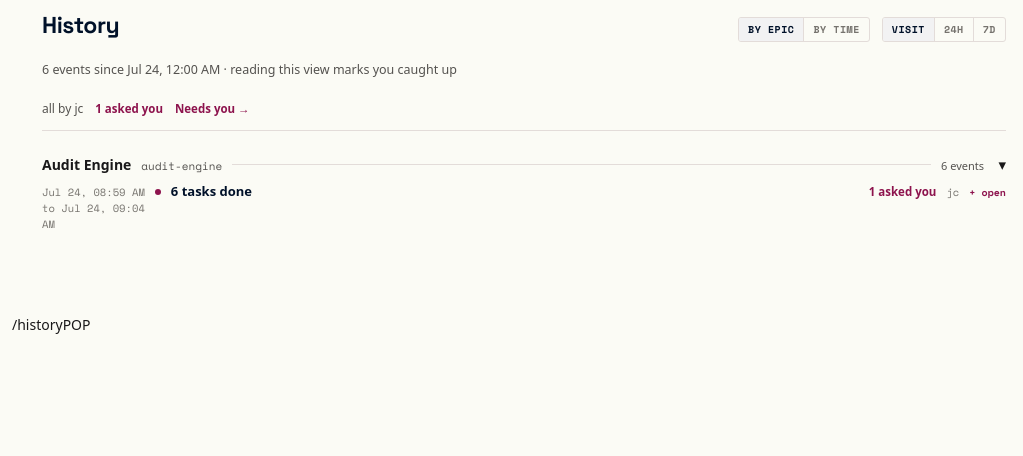
Scenario: History view: the caps rule extends to the client's own row cap › never lets an ask sit behind 'N more': the row cap ships every ask up front
Expected: the text "6 events since" is shown, [42,60,457,78]
Click the heading that starts with "Jul 24, 08:59 AM to Jul 24, 09:04 AM". click: (93, 192)
box: [42,175,1006,240]
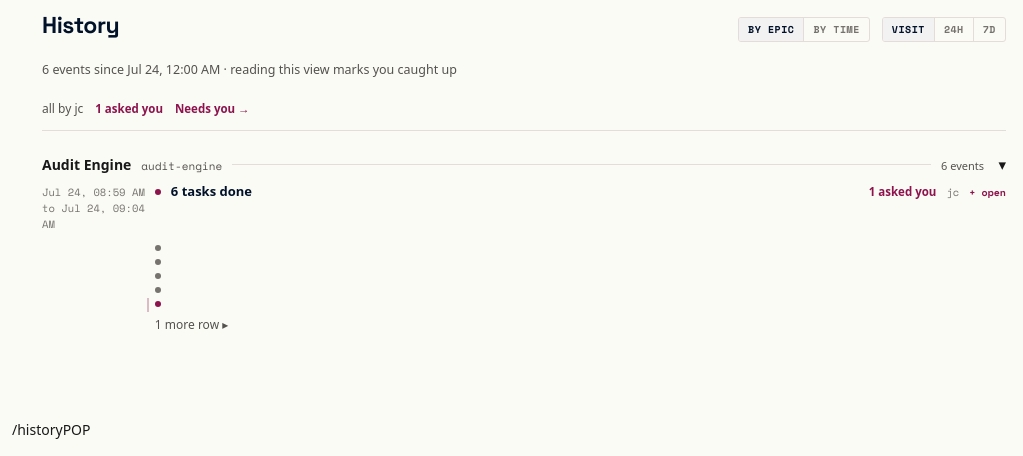
Result: the number of list items with class "recap-entry" is 5 at [155,244,161,250]; [155,258,161,264]; [155,272,161,278]; [155,286,161,292]; [147,298,1006,312]
Result: the number of list items with class "recap-entry-ask" is 1 at [147,298,1006,312]
Result: the button with class "recap-more" shows "1 more row"
Click the button "1 more row ▸". click: (192, 324)
box: [155,312,228,336]
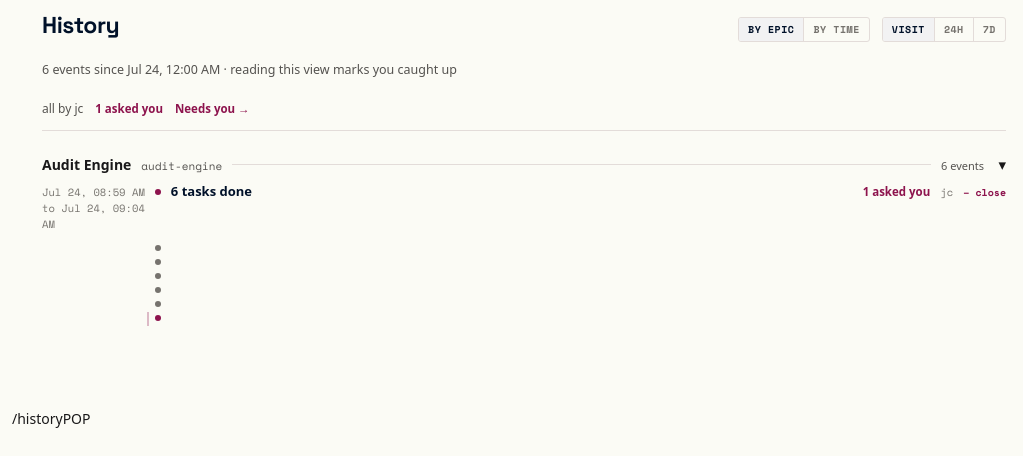
Result: the number of list items with class "recap-entry" is 6 at [155,244,161,250]; [155,258,161,264]; [155,272,161,278]; [155,286,161,292]; [155,300,161,306]; [147,312,1006,326]
